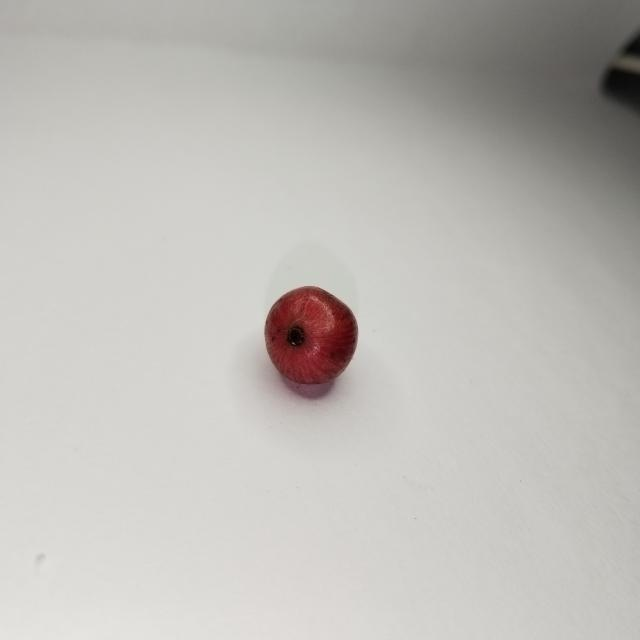Infectado: (264, 286, 359, 388)
